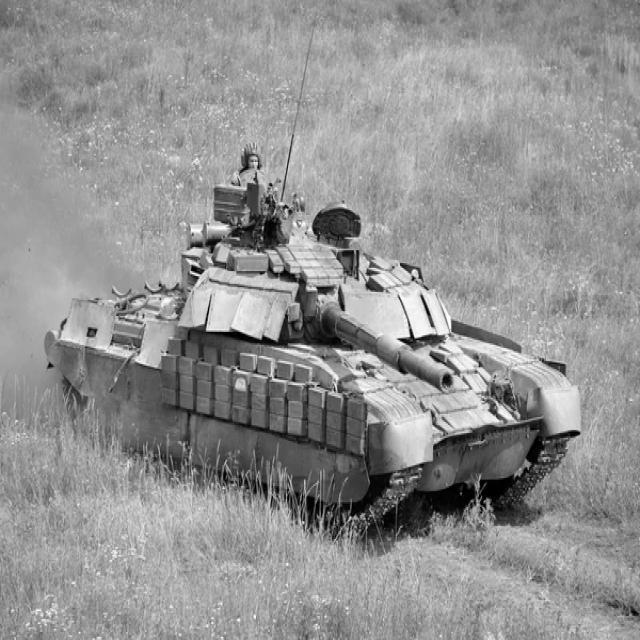Tank: (45, 167, 586, 539)
